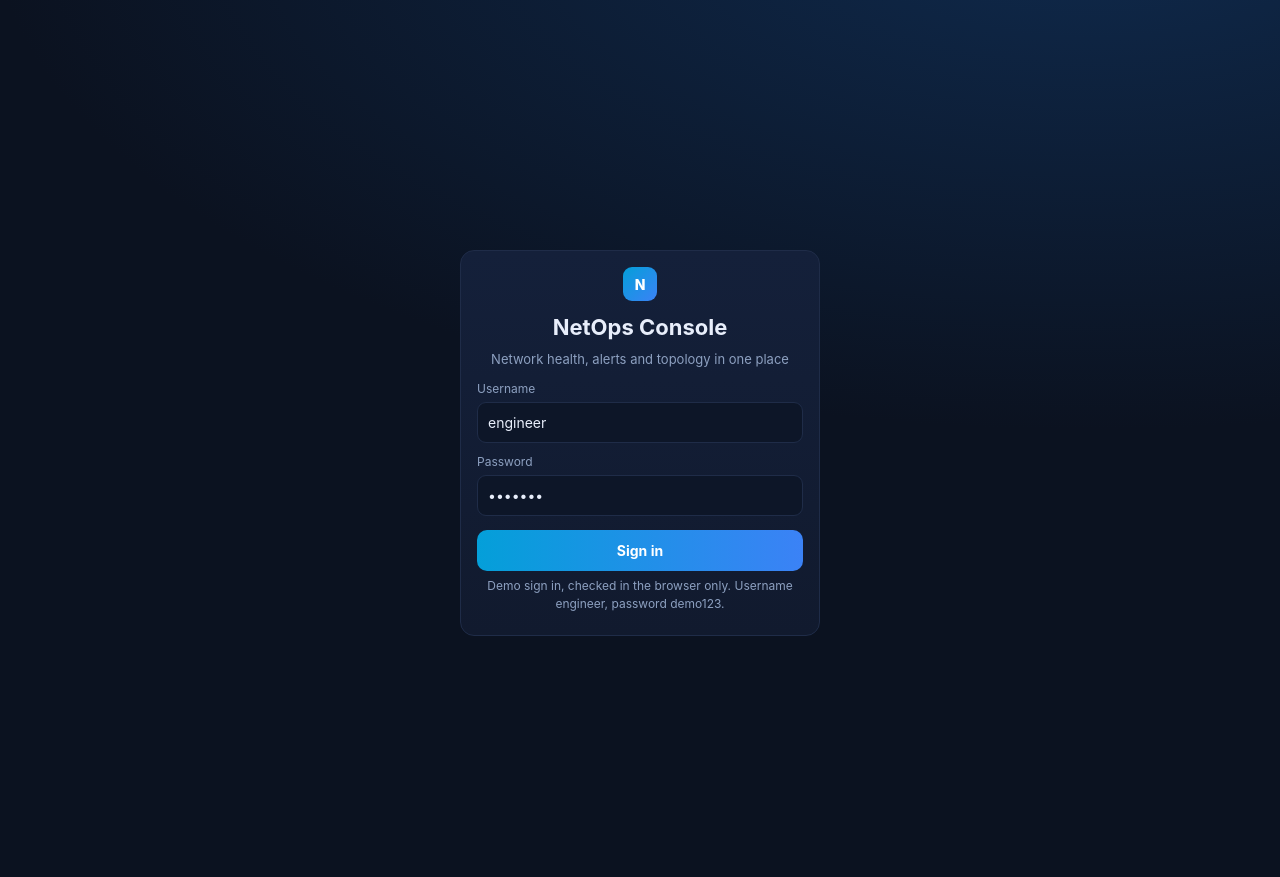
Test case: App › finds a device with the Ctrl K search
This screenshot has width=1280, height=877.
Later steps or results of the test are not shown.
Click the button "Sign in": click(640, 550) x1=477 y1=530 x2=803 y2=571
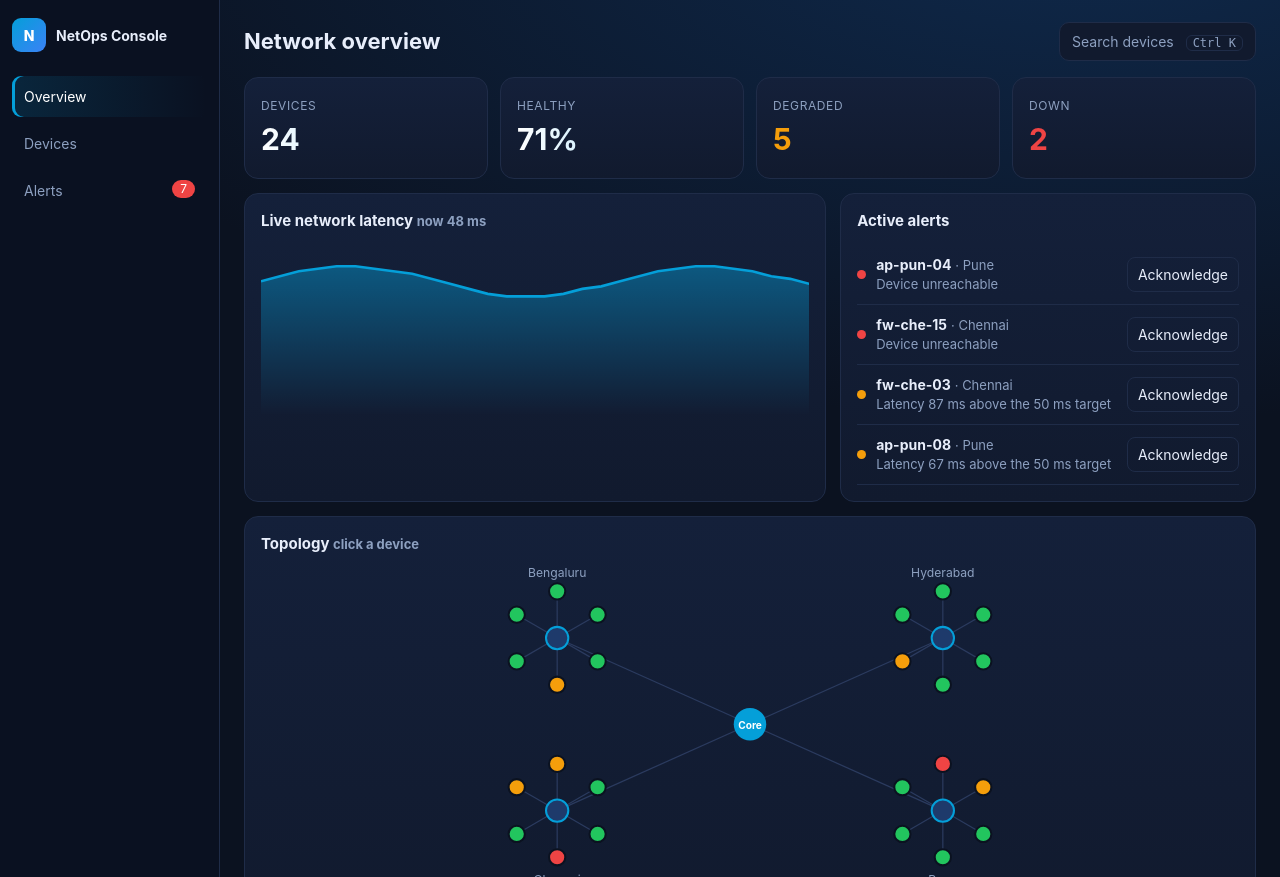
Type keys "{Control>}k{/Control}"
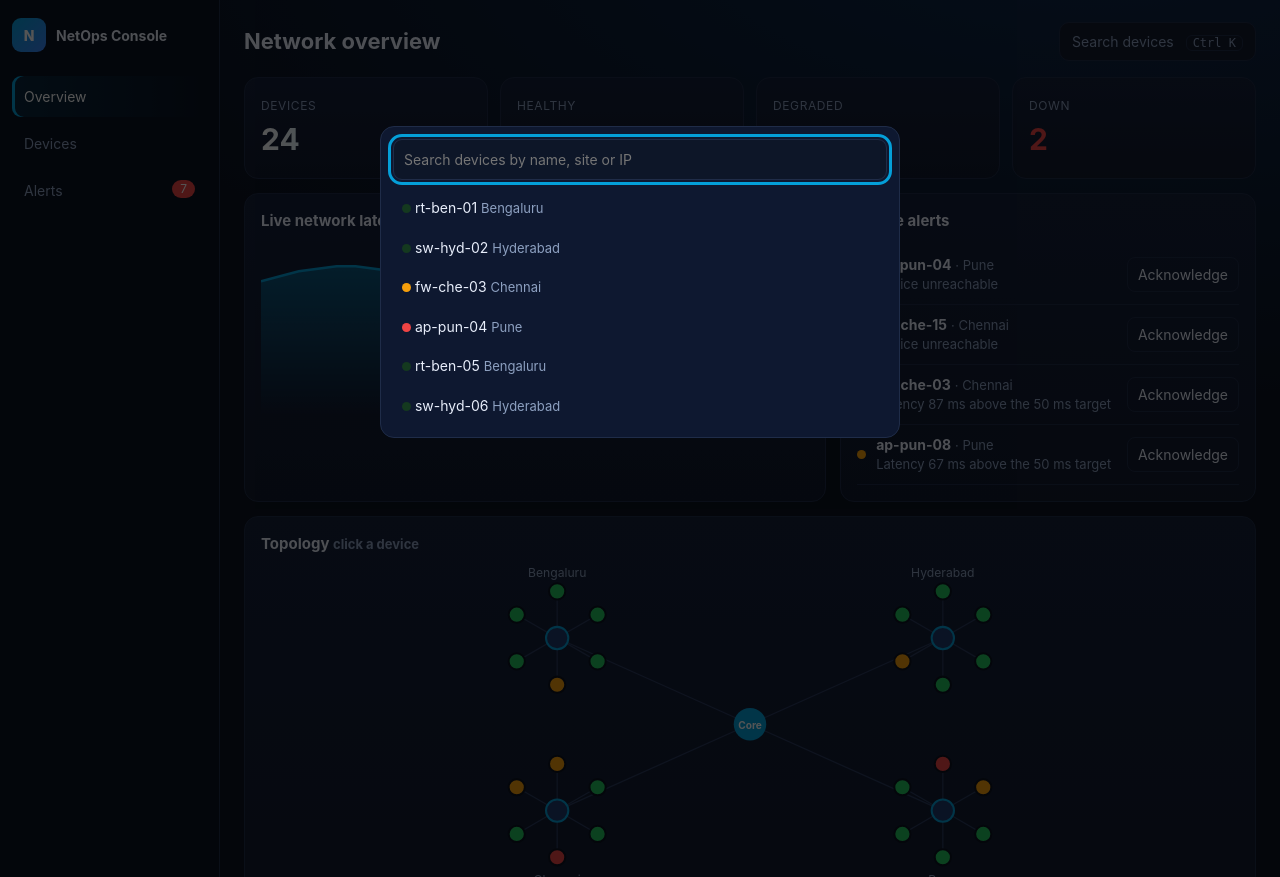
In the field named "search all devices": (640, 160) x1=393 y1=139 x2=887 y2=180, type "ap-pun-04"
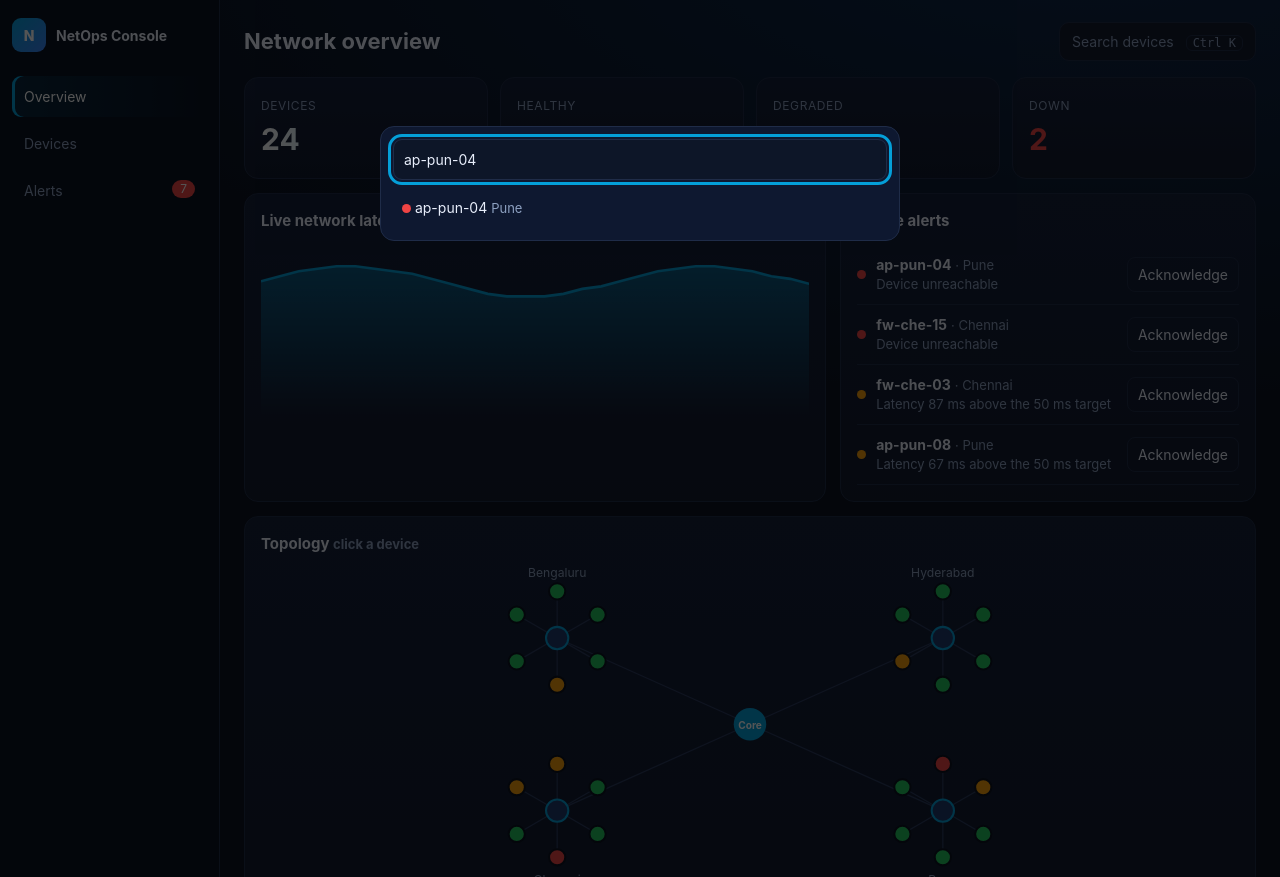
Click the button "ap-pun-04 Pune": click(451, 208) x1=393 y1=188 x2=887 y2=228
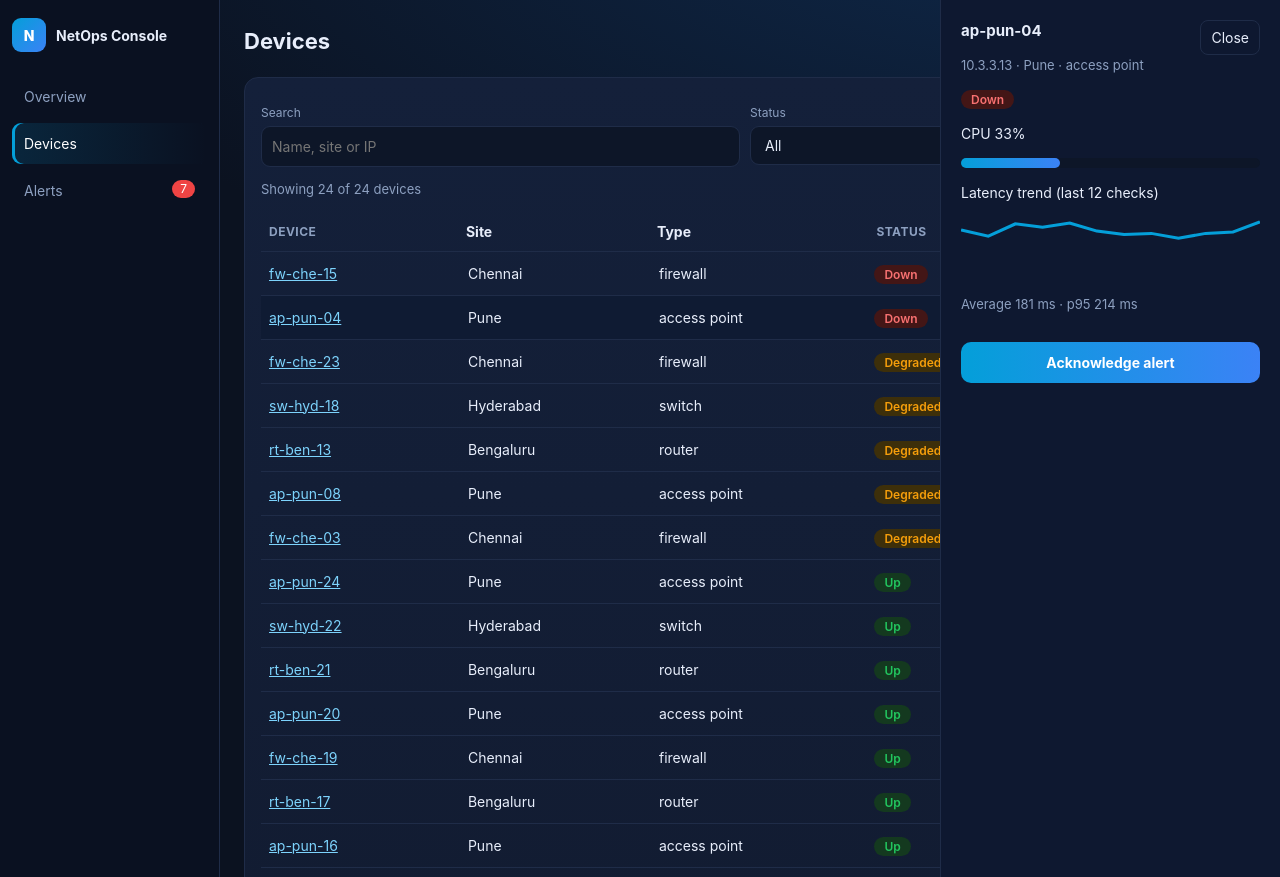
Expected: the element named "device details" shows "ap-pun-04", x1=961 y1=21 x2=1042 y2=40
